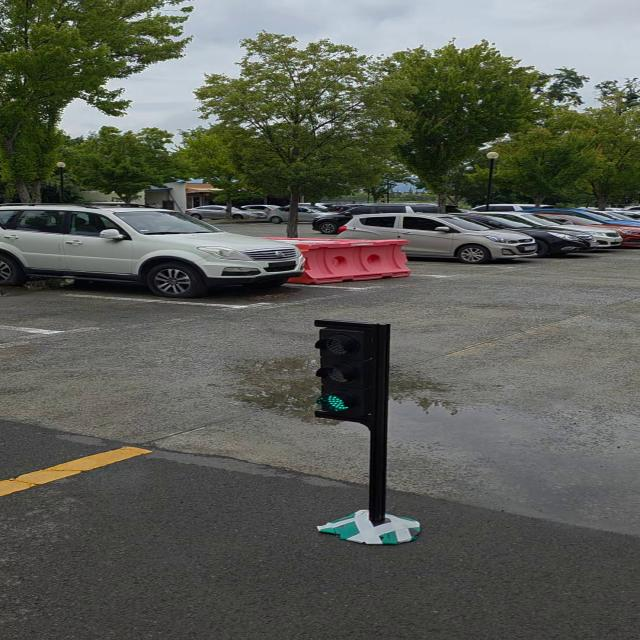green: (311, 321, 387, 425)
